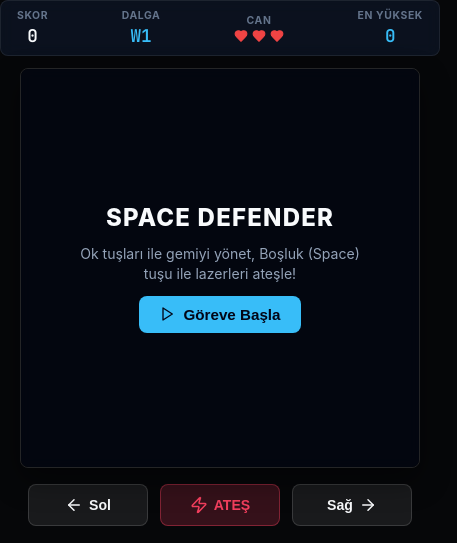
SpaceDefenderGame › starts mission and transitions to active battle state
What coordinates should you click on to do the following:
click the button with test id "space-start-btn"
I would click on:
 (220, 314)
Its box is [140, 296, 301, 333].
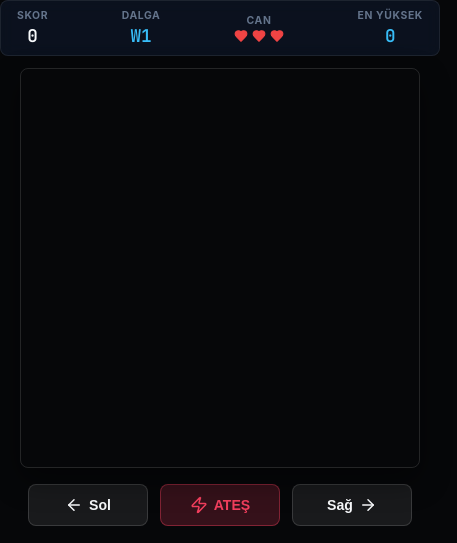
Result: the button with test id "space-start-btn" is gone
